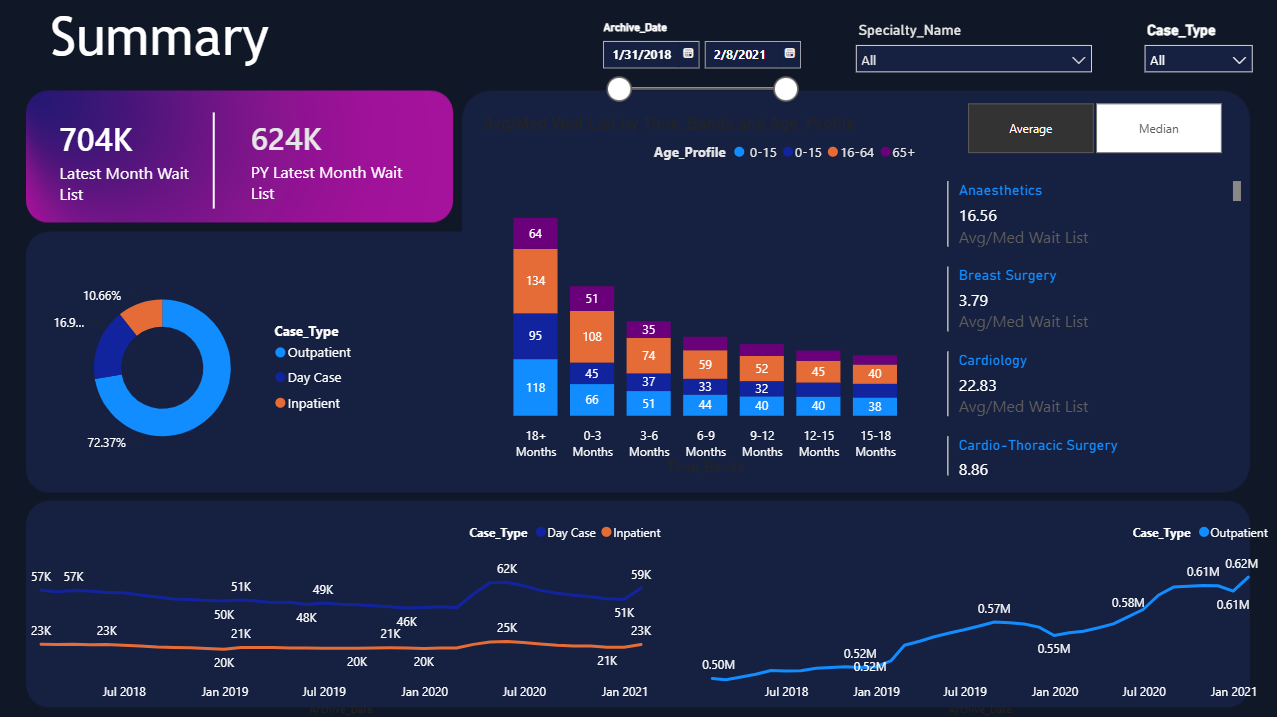

Layout of this report page (visuals, bound fields, positions):
{"tool":"powerbi","page":{"name":"Summary","canvas":[1280,720],"ordinal":0},"visuals":[{"type":"cardVisual","fields":{"Data":["All_Data.Latest Month Wait List"]},"box":[32,96,192,128],"z":0},{"type":"cardVisual","fields":{"Data":["All_Data.PY Latest Month Wait List"]},"box":[224,96,224,128],"z":1000},{"type":"slicer","fields":{"Values":["Calculation Method.Calc Method"]},"box":[944,96,304,64],"z":2000},{"type":"donutChart","fields":{"Category":["All_Data.Case_Type"],"Y":["All_Data.Avg/Med Wait List"]},"box":[48,240,320,256],"z":3000},{"type":"columnChart","fields":{"Series":["All_Data.Age_Profile"],"Y":["All_Data.Avg/Med Wait List"],"Category":["All_Data.Time_Bands"]},"box":[480,112,448,368],"z":4000},{"type":"multiRowCard","fields":{"Values":["All_Data.Specialty_Name","All_Data.Avg/Med Wait List"]},"box":[944,176,304,304],"z":5000},{"type":"lineChart","fields":{"Y":["Sum(All_Data.Total)"],"Category":["All_Data.Archive_Date"],"Series":["All_Data.Case_Type"]},"box":[16,512,656,208],"z":6000},{"type":"lineChart","fields":{"Y":["Sum(All_Data.Total)"],"Category":["All_Data.Archive_Date"],"Series":["All_Data.Case_Type"]},"box":[688,512,592,208],"z":7000},{"type":"slicer","fields":{"Values":["All_Data.Archive_Date"]},"box":[592,16,224,96],"z":8000},{"type":"slicer","fields":{"Values":["All_Data.Case_Type"]},"box":[1136,16,128,64],"z":9000},{"type":"slicer","fields":{"Values":["All_Data.Specialty_Name"]},"box":[848,16,256,64],"z":10000},{"type":"textbox","box":[48,0,304,80],"z":11000},{"type":"shape","box":[144,112,144,96],"z":12000}]}

Visuals, with their boxes in screenshot pixels (x1, y1, x2, y2), scaled from the page's 1280x720 canvas onto the 1277x717 screenshot:
cardVisual - All_Data.Latest Month Wait List: 32,96,223,223
cardVisual - All_Data.PY Latest Month Wait List: 223,96,447,223
slicer - Calculation Method.Calc Method: 942,96,1245,159
donutChart - All_Data.Case_Type x All_Data.Avg/Med Wait List: 48,239,367,494
columnChart - All_Data.Age_Profile x All_Data.Avg/Med Wait List: 479,112,926,478
multiRowCard - All_Data.Specialty_Name x All_Data.Avg/Med Wait List: 942,175,1245,478
lineChart - Sum(All_Data.Total) x All_Data.Archive_Date: 16,510,670,716
lineChart - Sum(All_Data.Total) x All_Data.Archive_Date: 686,510,1276,716
slicer - All_Data.Archive_Date: 591,16,814,112
slicer - All_Data.Case_Type: 1133,16,1261,80
slicer - All_Data.Specialty_Name: 846,16,1101,80
textbox: 48,0,351,80
shape: 144,112,287,207
